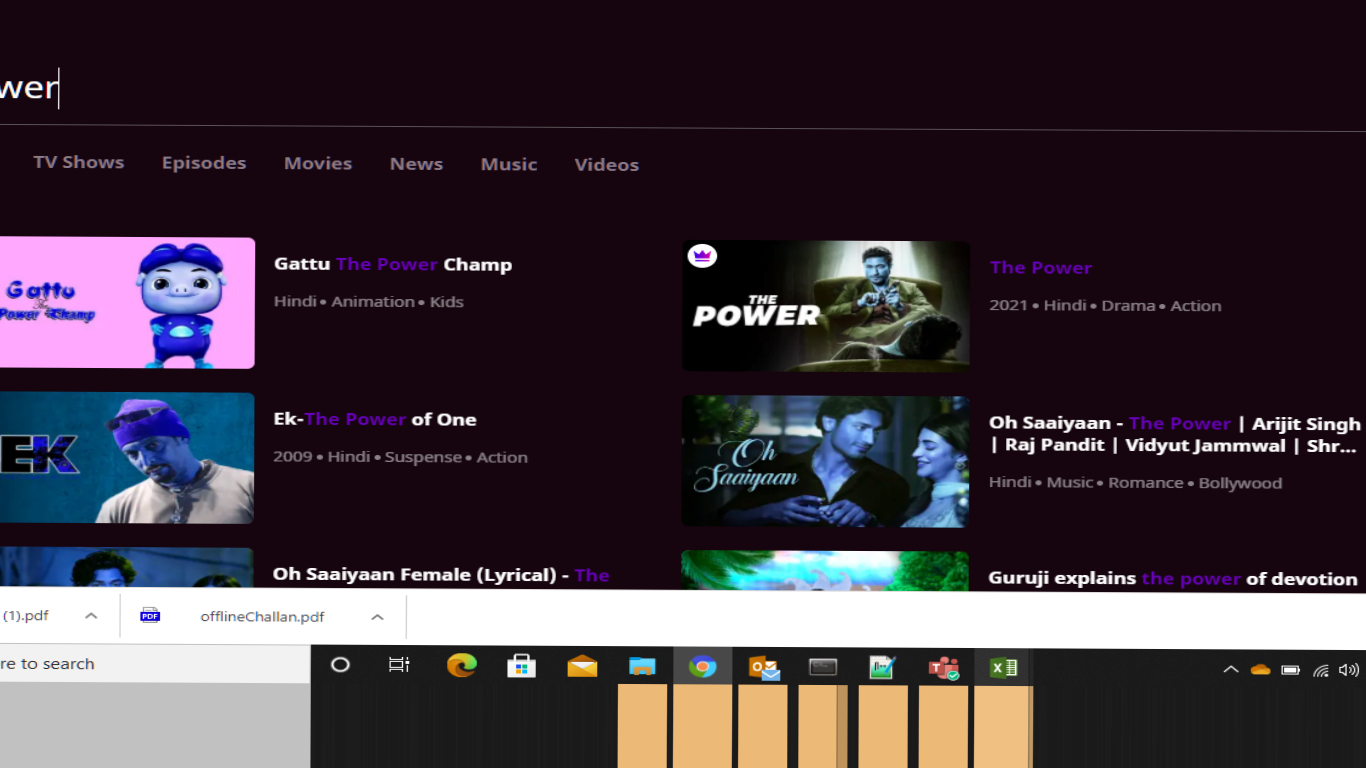searchtextbox: (7, 55, 1338, 134)
